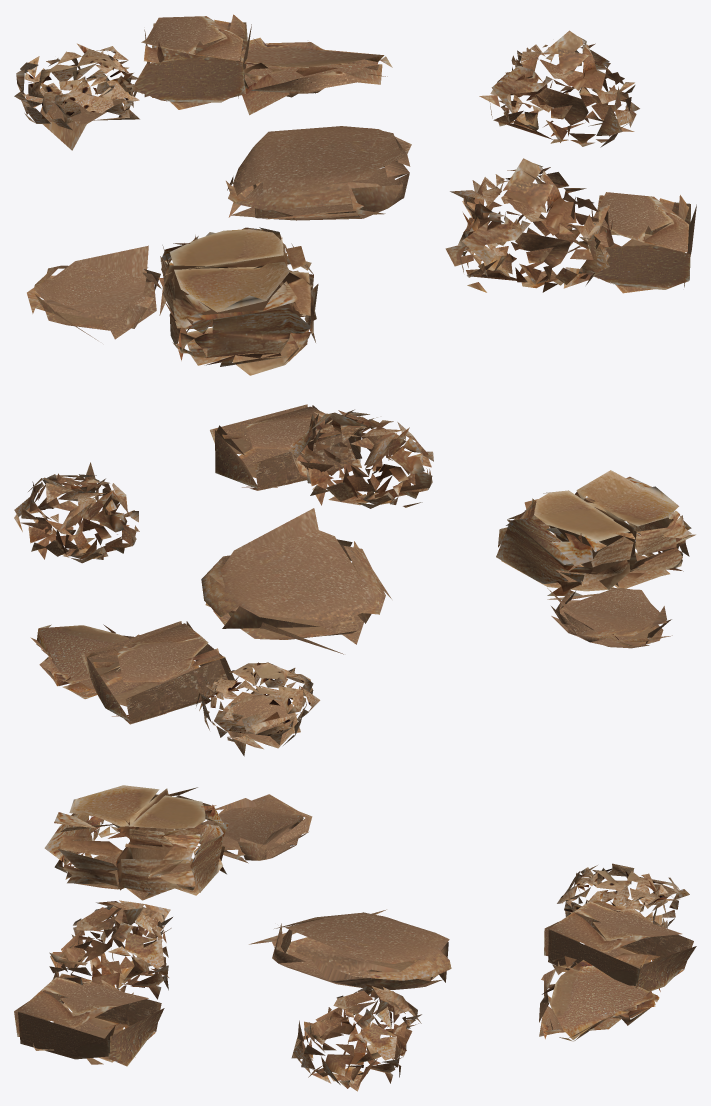
Rendered from desert_pebble_b_scatter_lod1.glb.
3 renders of one model, top to bottom at view 1: azimuth 30°, elevation 25°; view 2: azimuth 150°, elevation 25°; view 3: azimuth 270°, elevation 25°, orthographic. The views are drawn at different scales.
Parts seen in each view (by area): view 1: desert_pebble_b_scatter.001; view 2: desert_pebble_b_scatter.001; view 3: desert_pebble_b_scatter.001.
Part boxes in pixels (x1,y1,x2,y2): desert_pebble_b_scatter.001: [14, 14, 696, 375]; desert_pebble_b_scatter.001: [14, 404, 695, 756]; desert_pebble_b_scatter.001: [14, 785, 696, 1091].
Size of the model in its own units: 5.44 by 0.9937 by 5.41.
6 materials, 6 textured.
